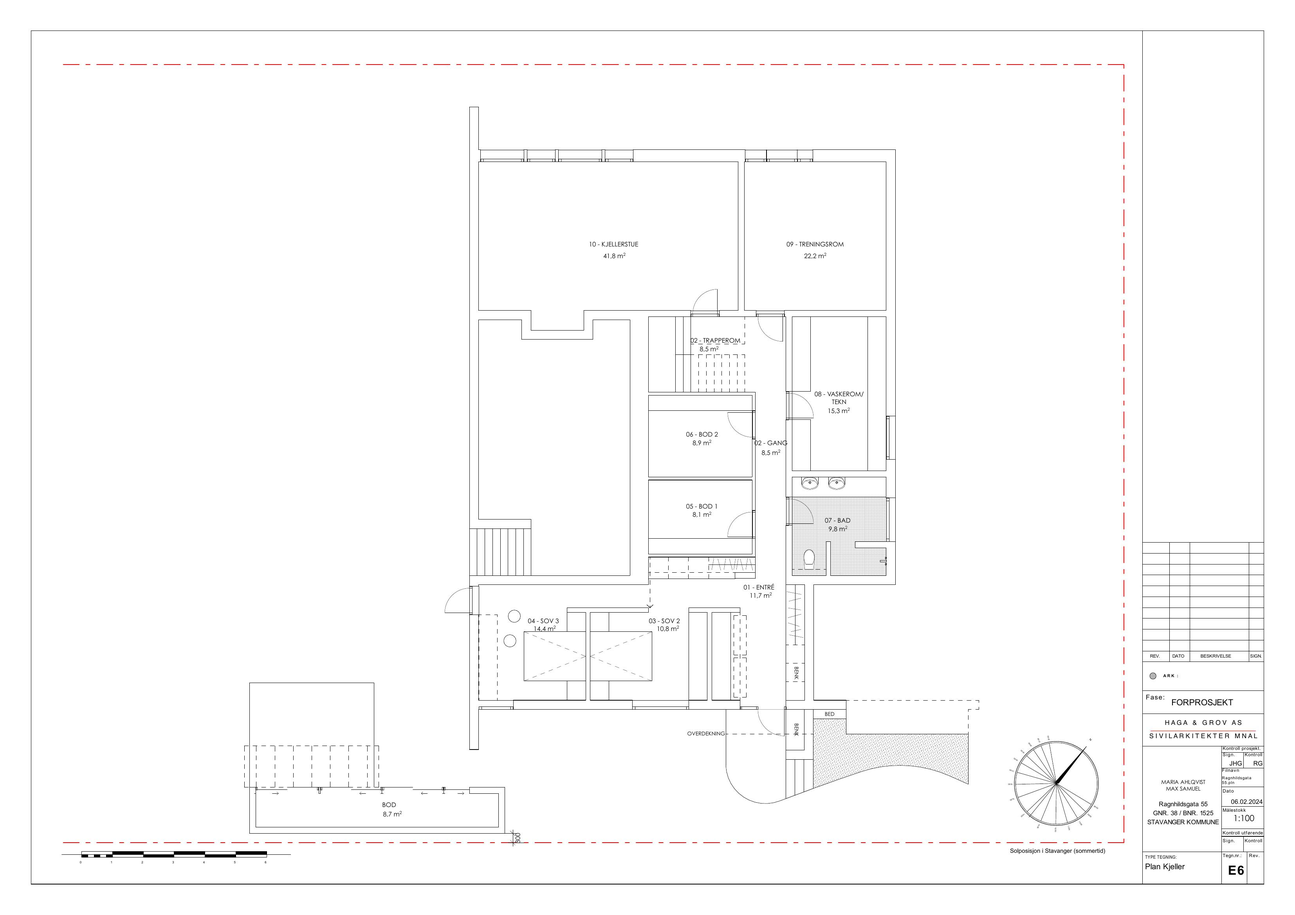snitt: (469, 105, 972, 760)
